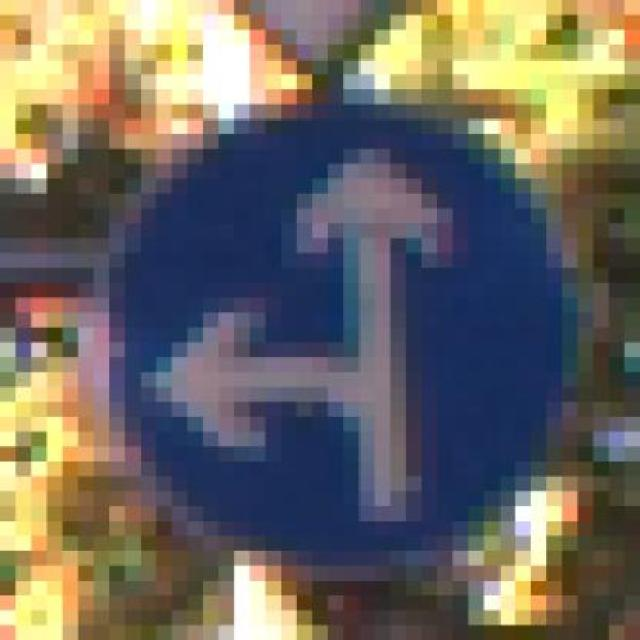Go straight or turn left: (109, 104, 594, 581)
